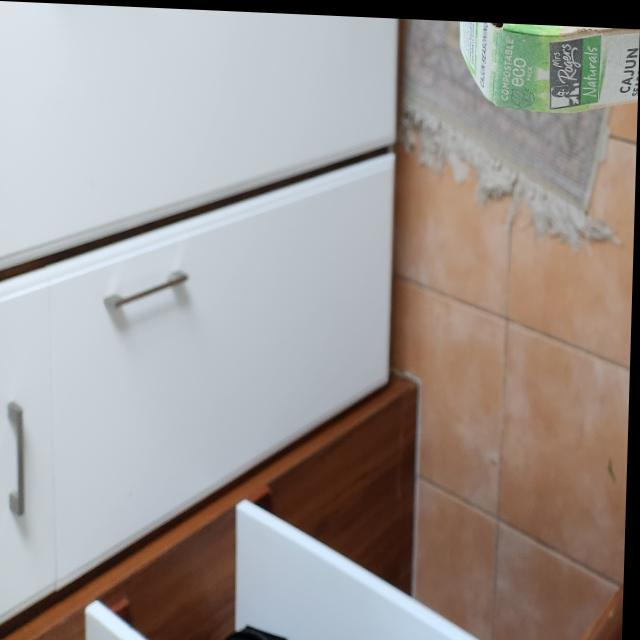cajun: (447, 16, 640, 105)
